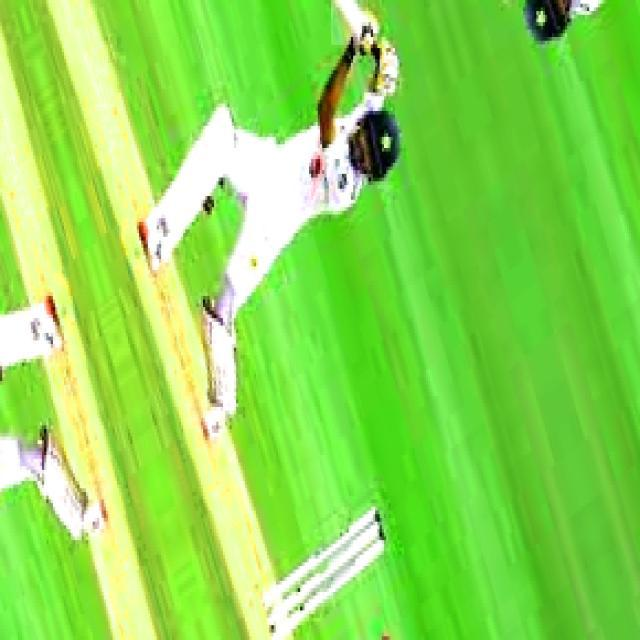bat: (329, 0, 374, 29)
